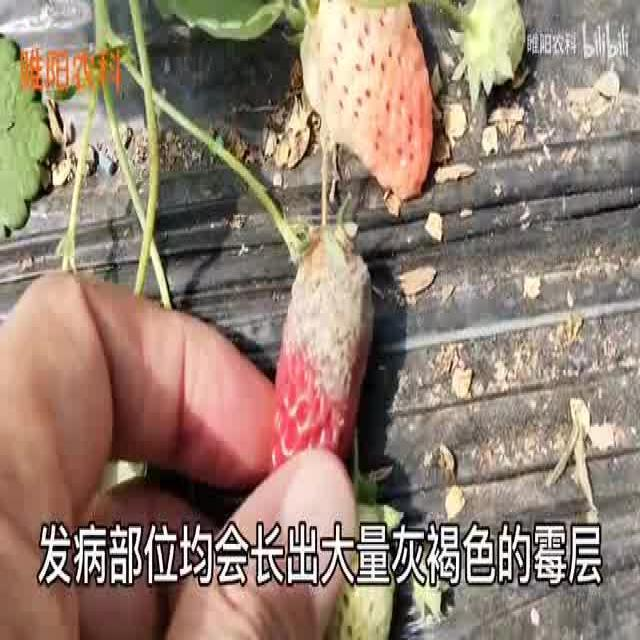Fruta sana: (300, 0, 437, 201), (313, 492, 394, 640), (451, 0, 528, 116)
Moho gris: (267, 218, 377, 502)
